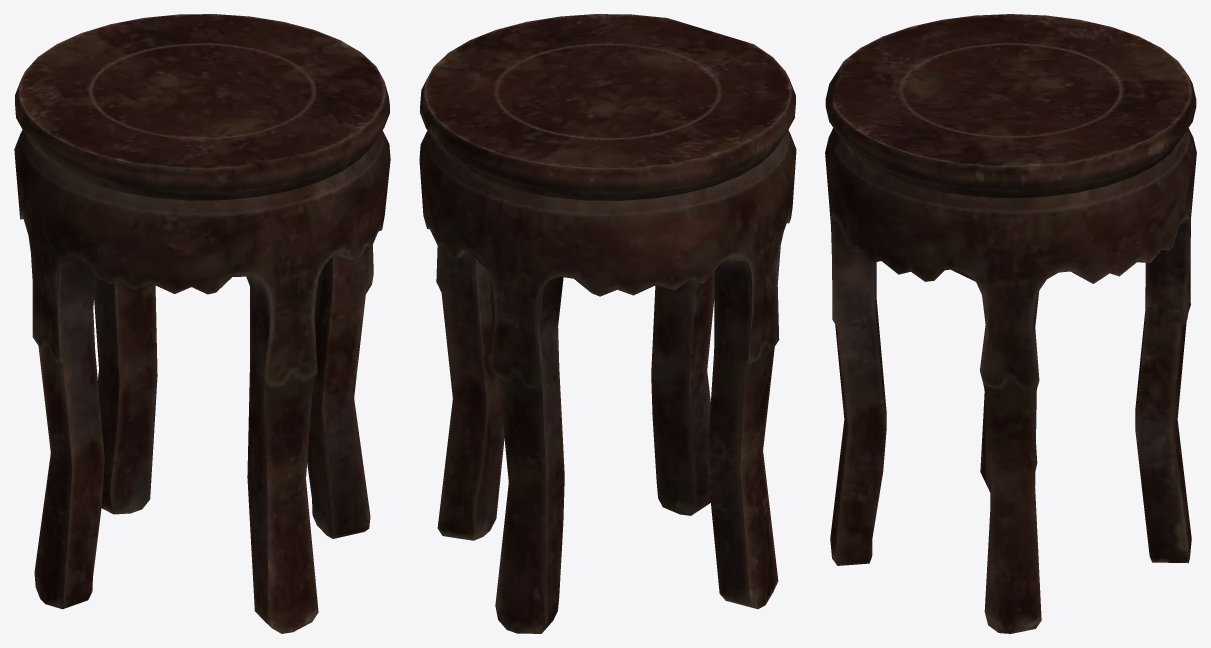
File: WoodenTable_02.glb
The picture shows the model from 3 angles, left to right: view 1: azimuth 30°, elevation 25°; view 2: azimuth 150°, elevation 25°; view 3: azimuth 270°, elevation 25°; orthographic projection.
Visible parts, largest first — view 1: WoodenTable_02; view 2: WoodenTable_02; view 3: WoodenTable_02.
Part boxes in pixels (bbox=[...]): WoodenTable_02: bbox=[14, 14, 390, 633]; WoodenTable_02: bbox=[419, 14, 796, 633]; WoodenTable_02: bbox=[825, 14, 1196, 633].
Bounding box in the file's own units: 0.3007 × 0.4177 × 0.3007.
Materials: 1 (1 with a texture image).
